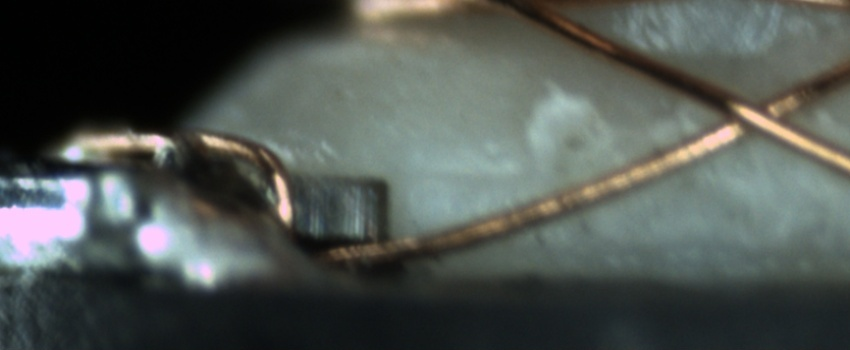CL: (682, 72, 829, 155)
DL: (404, 138, 541, 202)
TE: (69, 114, 300, 239)
